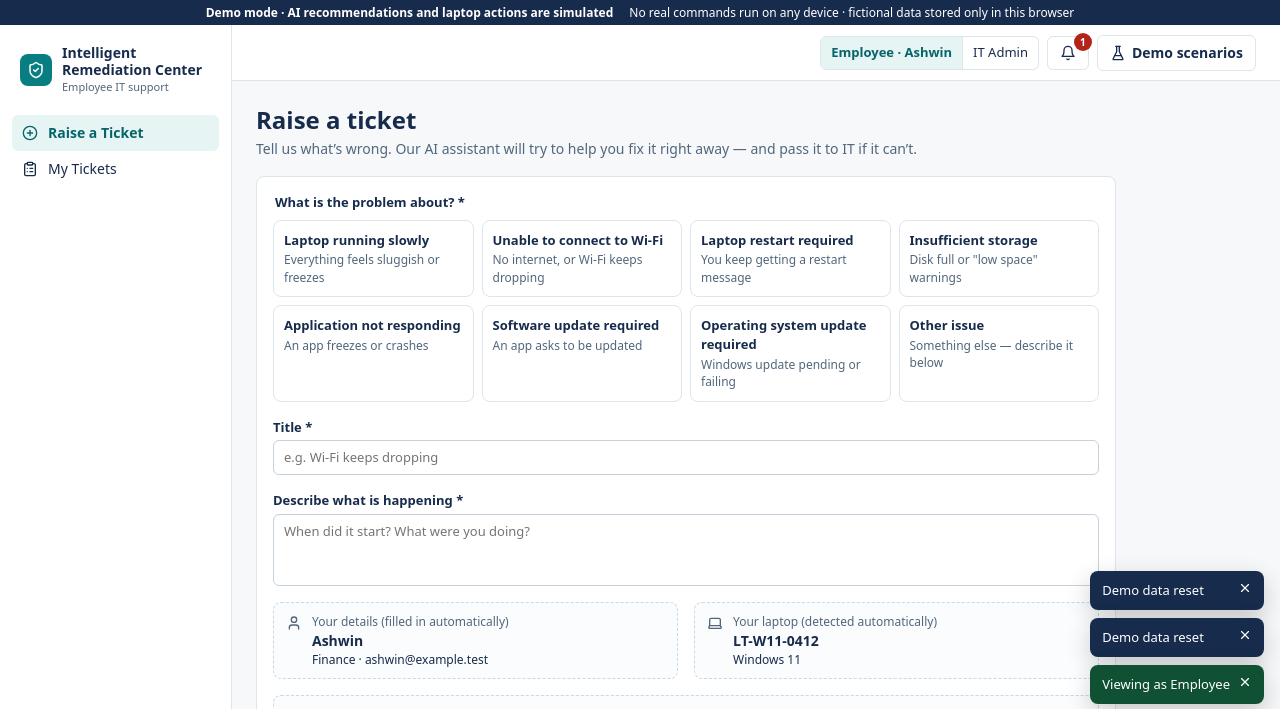
Test: UI › employee raises a ticket and immediately gets the first guided question
Click the radio button labelled "Unable to connect to Wi-Fi" at (582,258), box [482,220,682,297]
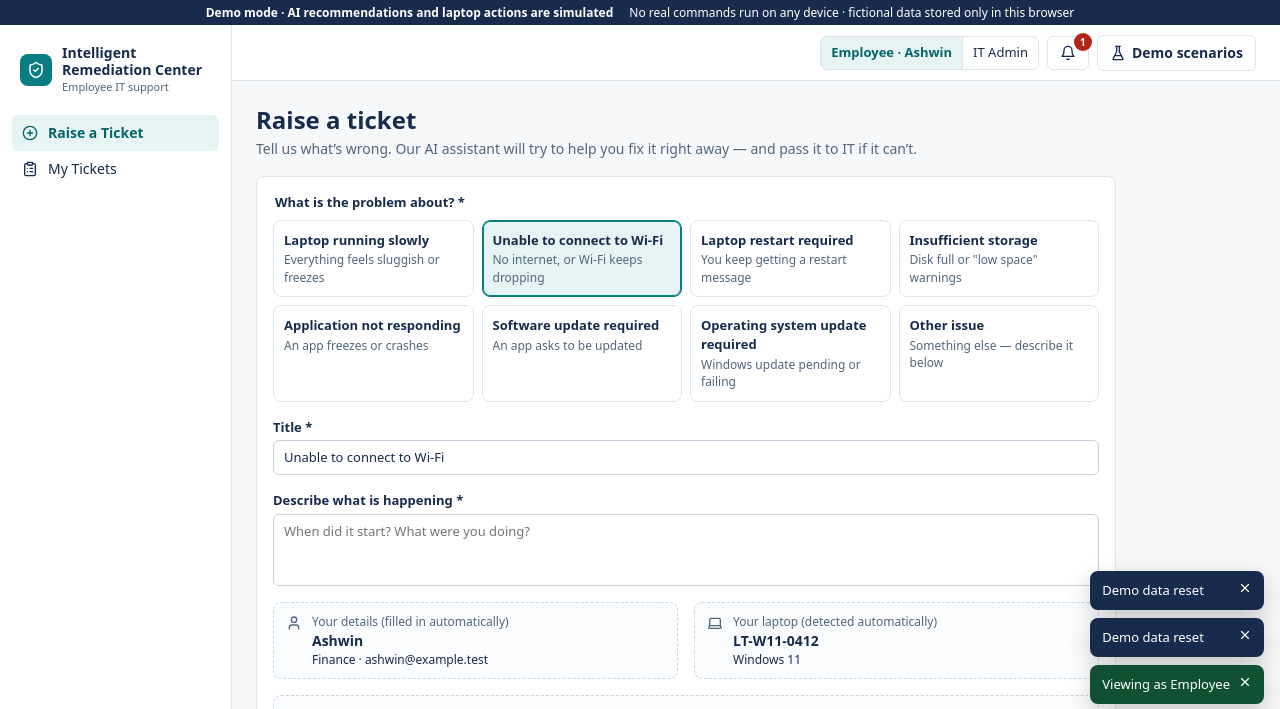
Type "Drops every few minutes" into the text box labelled "Describe what is happening *" at (686,550), box [273,514,1099,586]
(page scrolled)
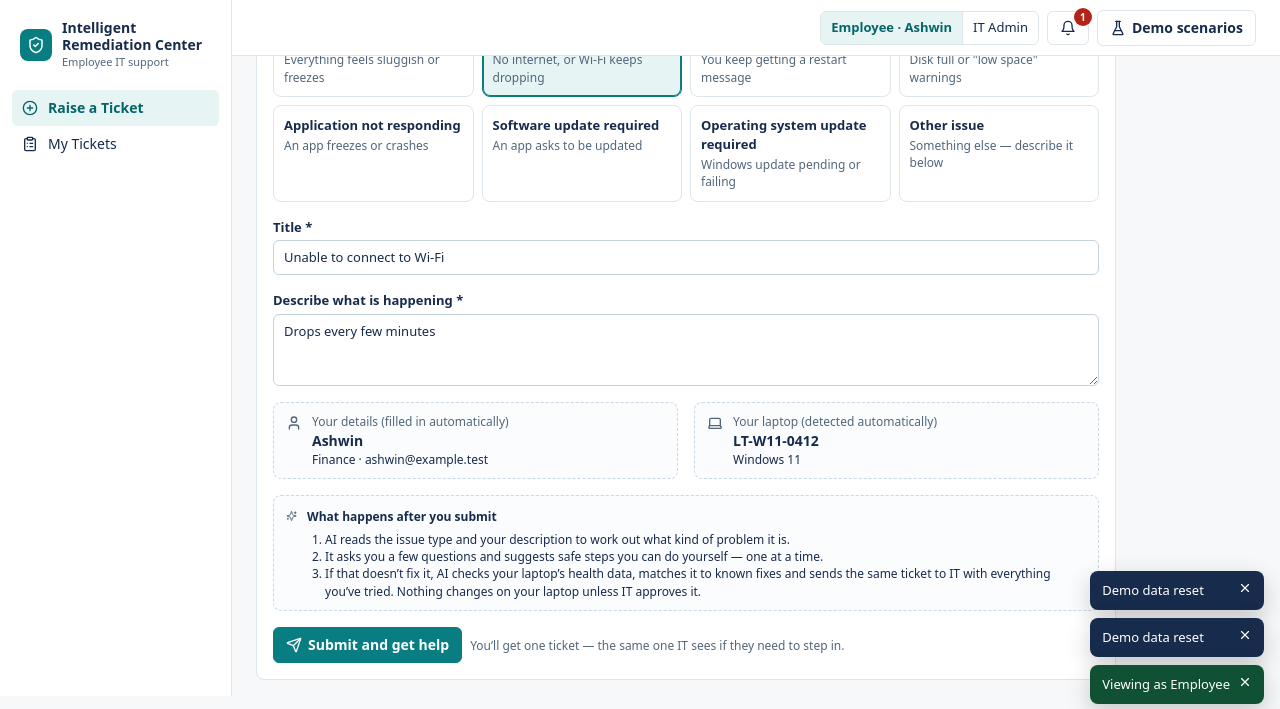
Click the button with test id "submit-ticket" at (368,645), box [273,627,462,663]
(page scrolled)
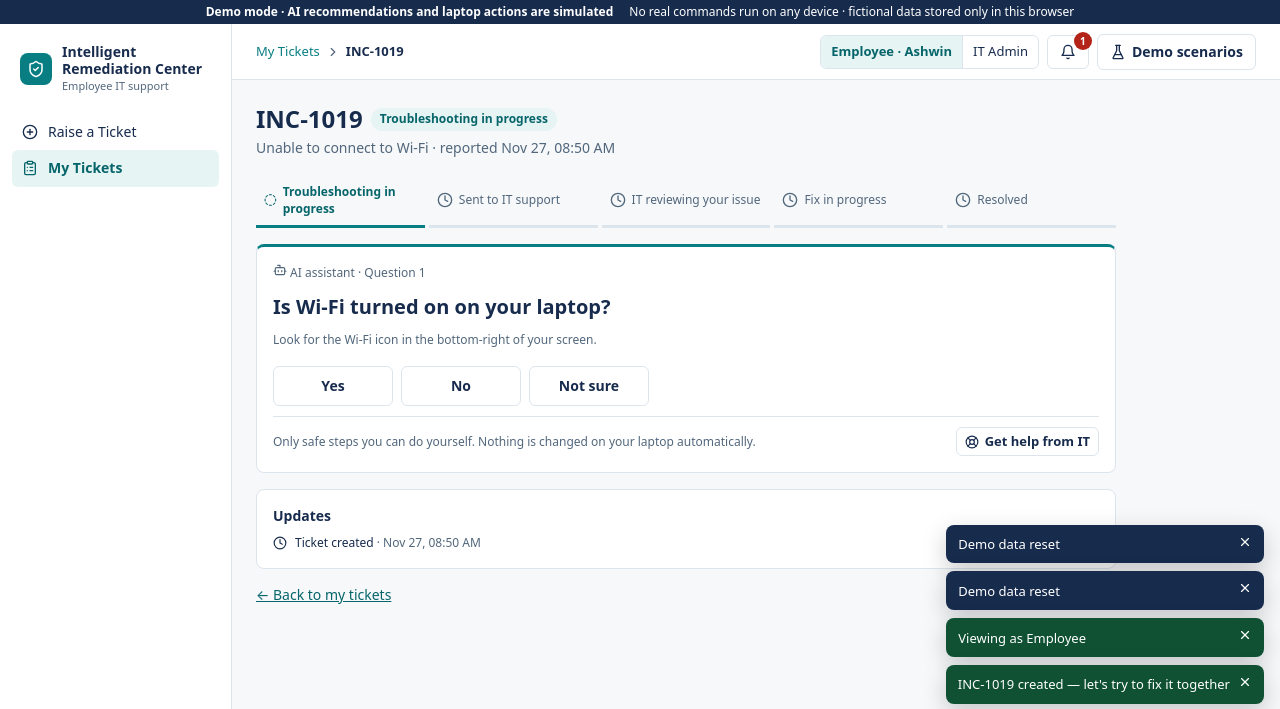
Check: the heading with test id "ts-prompt" reads "Is Wi-Fi turned on on your laptop?", box [273,293,610,320]
